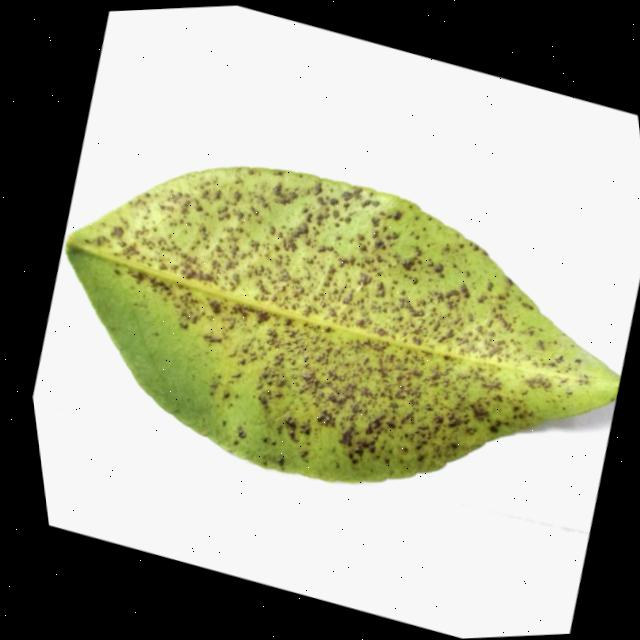melanose: (67, 168, 620, 482)
